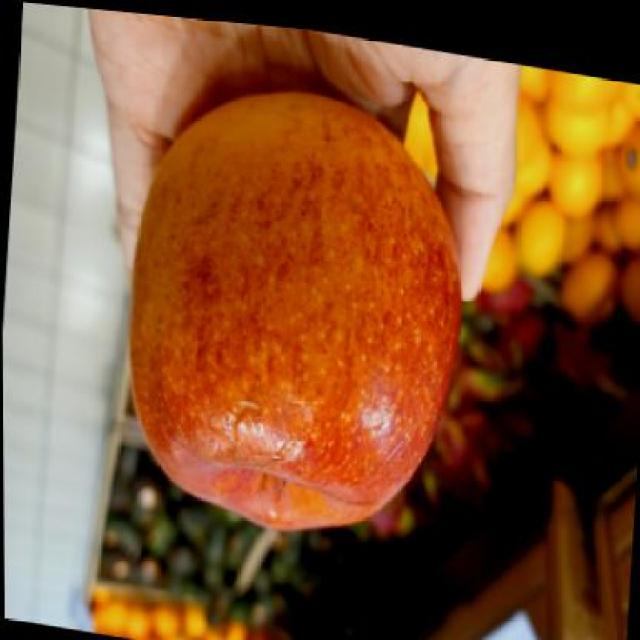Fresh Apple: (124, 108, 462, 524)
